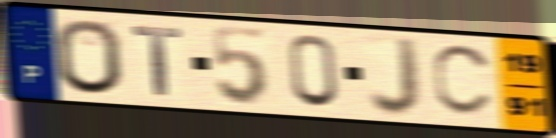0: (286, 33, 341, 110)
5: (211, 23, 271, 109)
C: (430, 43, 497, 120)
J: (367, 34, 423, 119)
O: (52, 17, 126, 97)
T: (129, 24, 185, 99)
